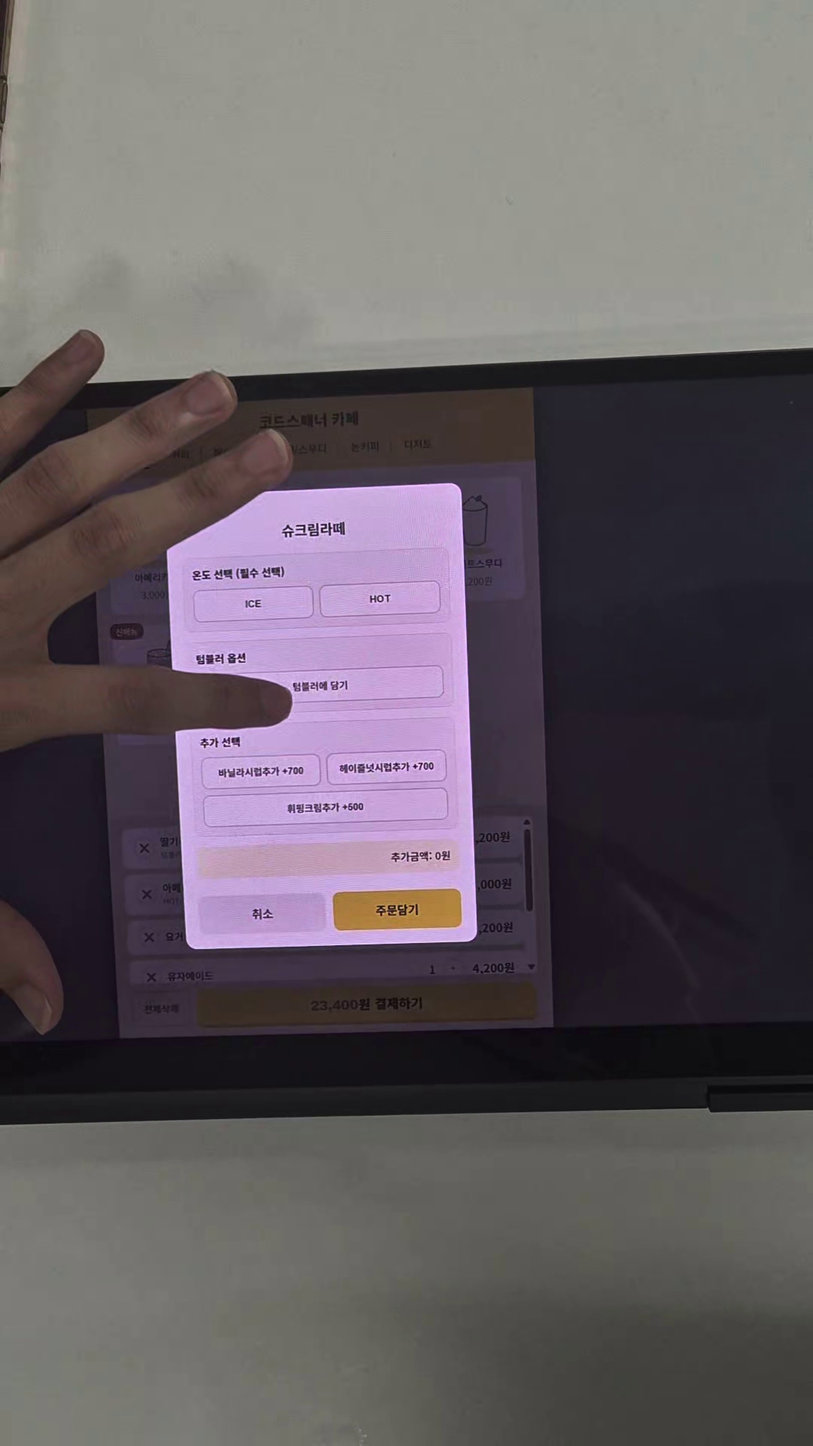action_button: (198, 895, 324, 937), (334, 891, 461, 929)
option_button: (197, 663, 443, 711), (206, 788, 448, 827), (320, 576, 442, 619), (193, 584, 316, 619), (201, 753, 323, 788), (327, 750, 446, 784)
popup_modal: (170, 483, 480, 952)
